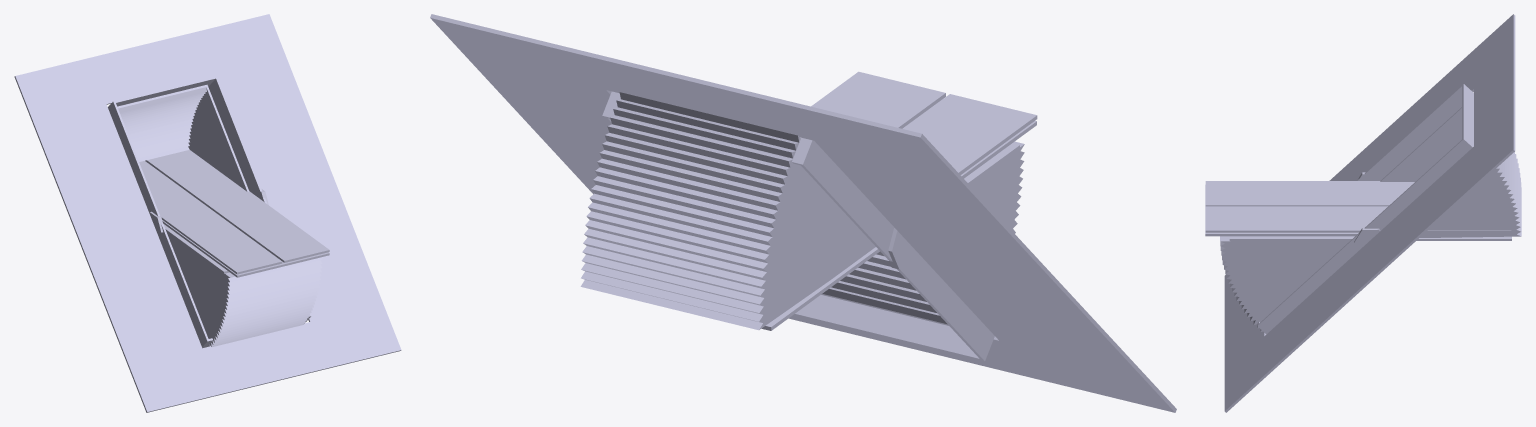
The model's file is RD_Plat5in.glb.
3 views of the same model, side by side, from view 1: azimuth 30°, elevation 25°; view 2: azimuth 150°, elevation 25°; view 3: azimuth 270°, elevation 25° (orthographic). The views are drawn at different scales.
Visible parts, largest first — view 1: copy_Body021, copy_LinkGroup004, copy_Body023, copy_Body022, copy_Body, copy_Body017, copy_Body016, copy_LinkGroup003; view 2: copy_Body021, copy_Body022, copy_Body, copy_LinkGroup004, copy_Body023, copy_Body017, copy_LinkGroup003, copy_Body002; view 3: copy_Body021, copy_LinkGroup004, copy_Body022, copy_Body, copy_Body023, copy_Body016, copy_Body017, copy_LinkGroup003, copy_Body001.
Part boxes in pixels (x1,y1,x2,y2): copy_Body021: (14, 14, 401, 412); copy_LinkGroup004: (146, 156, 329, 277); copy_Body023: (166, 232, 322, 346); copy_Body022: (117, 84, 249, 191); copy_Body: (108, 76, 311, 348); copy_Body017: (139, 161, 270, 265); copy_Body016: (145, 150, 274, 248); copy_LinkGroup003: (163, 224, 229, 273); copy_Body021: (430, 14, 1176, 412); copy_Body022: (580, 92, 875, 330); copy_Body: (602, 91, 994, 361); copy_LinkGroup004: (811, 71, 1037, 178); copy_Body023: (821, 141, 1024, 325); copy_Body017: (906, 111, 1015, 174); copy_LinkGroup003: (761, 143, 1019, 330); copy_Body002: (888, 228, 915, 269); copy_Body021: (1224, 14, 1515, 412); copy_LinkGroup004: (1205, 181, 1487, 236); copy_Body022: (1380, 107, 1521, 237); copy_Body: (1257, 84, 1473, 334); copy_Body023: (1220, 236, 1349, 331); copy_Body016: (1230, 206, 1511, 232); copy_Body017: (1230, 181, 1413, 202); copy_LinkGroup003: (1229, 236, 1511, 240); copy_Body001: (1354, 227, 1380, 250).
Size of the model in its own units: 1.68 by 1.52 by 1.65.
